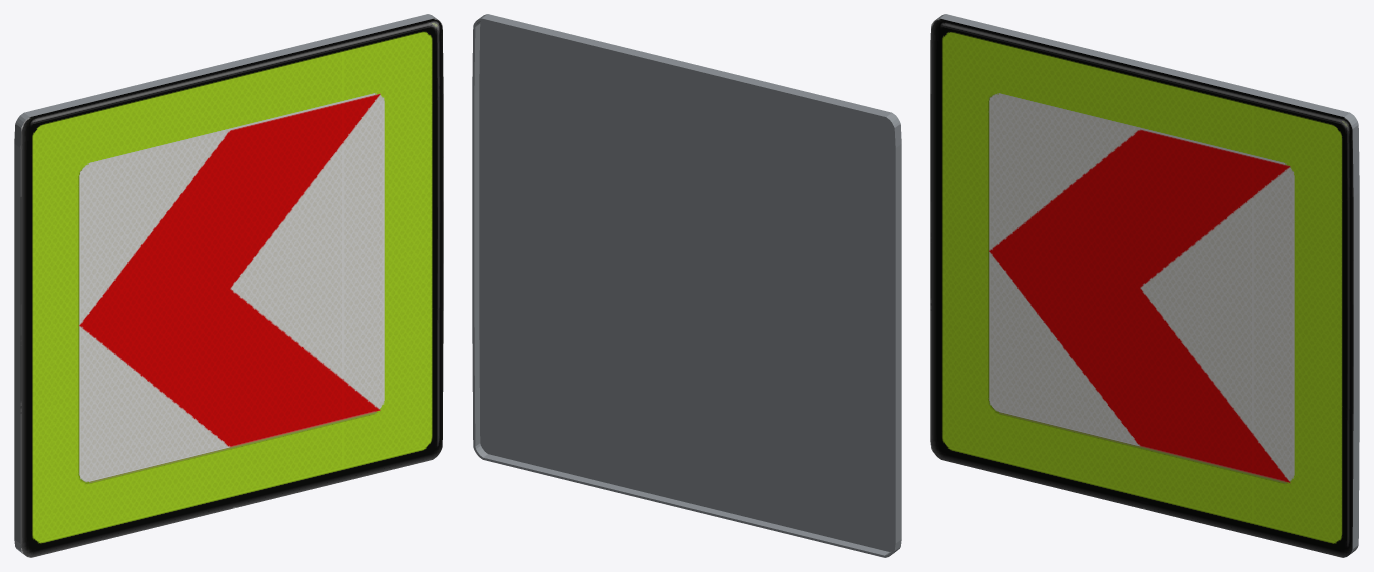
The picture shows the model from 3 angles, left to right: view 1: azimuth 30°, elevation 25°; view 2: azimuth 150°, elevation 25°; view 3: azimuth 330°, elevation 25°; orthographic projection.
Parts seen in each view (by area): view 1: cat_766da4f67071178f; view 2: cat_766da4f67071178f; view 3: cat_766da4f67071178f.
Boxes of the visible parts, box(x1,y1,x2,y2) form: cat_766da4f67071178f: box(14, 14, 443, 557); cat_766da4f67071178f: box(472, 14, 901, 557); cat_766da4f67071178f: box(930, 14, 1359, 557).
Size of the model in its own units: 0.6 by 0.015 by 0.5973.
Materials: 2 (1 with a texture image).
